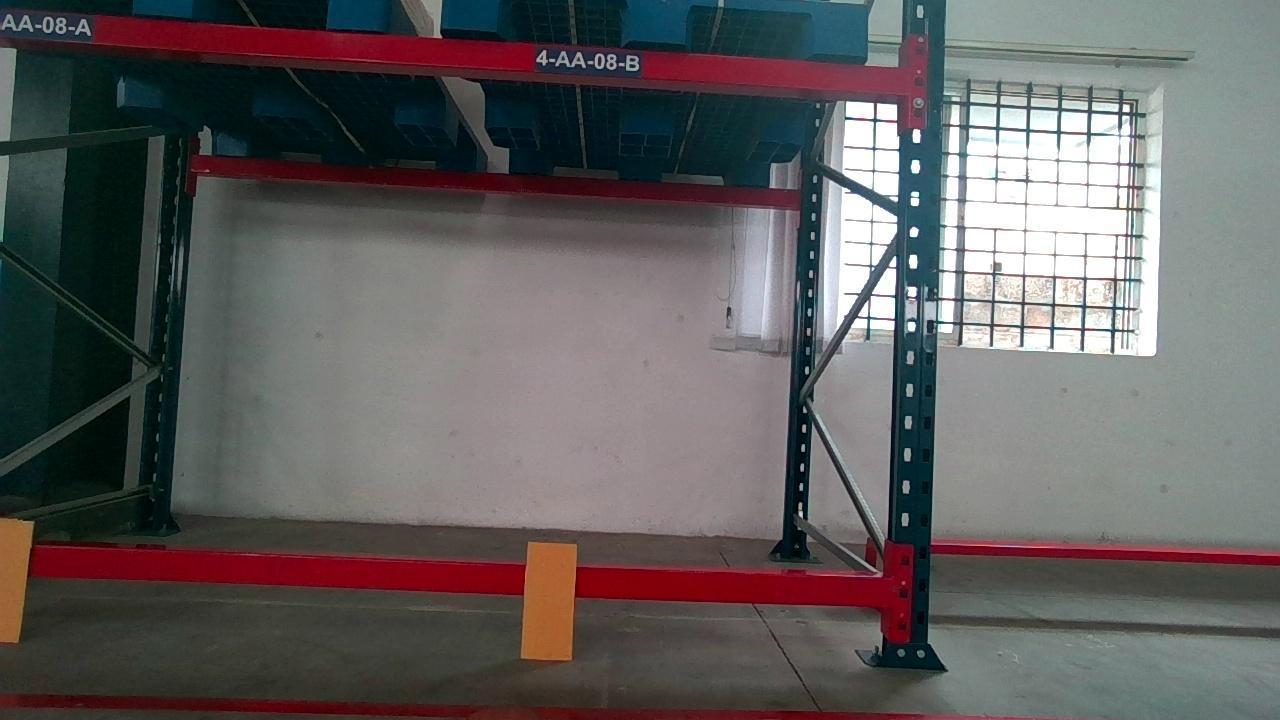h_rack: (0, 536, 884, 604)
orange_strip: (521, 541, 575, 659), (1, 521, 31, 638)
red_line: (3, 687, 925, 720)
small_pallet: (438, 0, 880, 48)
